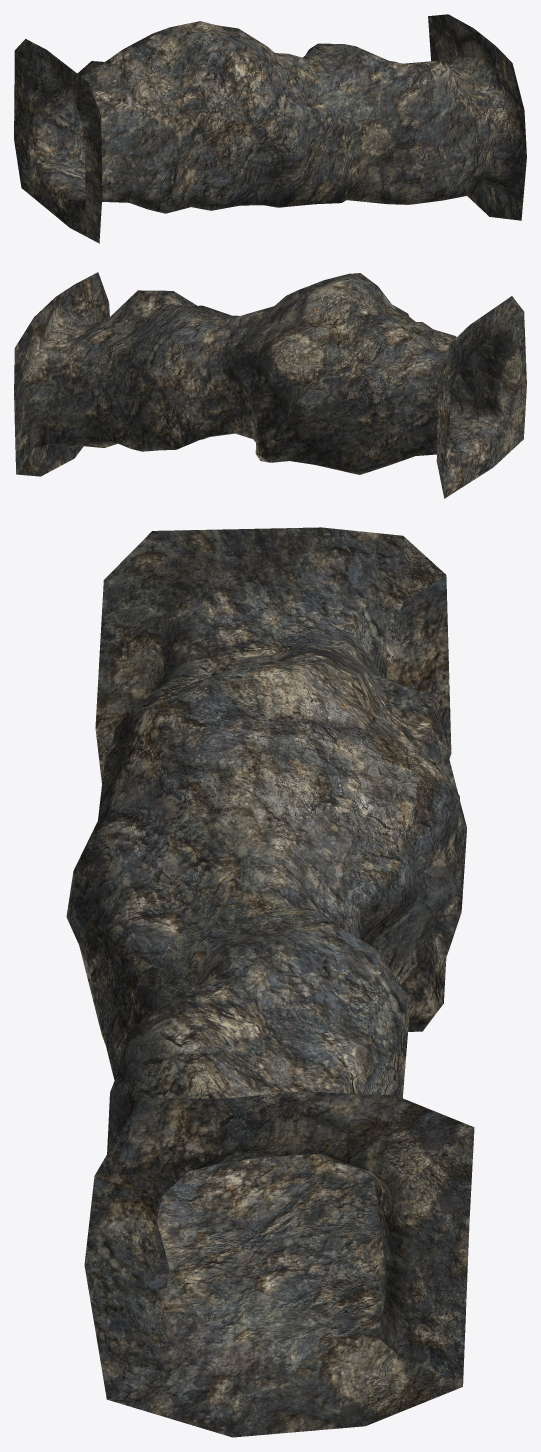
File: Module5_LOD1.fbx
3 renders of one model, top to bottom at view 1: azimuth 30°, elevation 25°; view 2: azimuth 150°, elevation 25°; view 3: azimuth 270°, elevation 25°, orthographic. The views are drawn at different scales.
Visible parts, largest first — view 1: cave_el5_1400_Group31122; view 2: cave_el5_1400_Group31122; view 3: cave_el5_1400_Group31122.
Part boxes in pixels (x1,y1,x2,y2): cave_el5_1400_Group31122: (14,14,526,243); cave_el5_1400_Group31122: (14,272,526,498); cave_el5_1400_Group31122: (66,527,474,1437).
Bounding box in the file's own units: 20.65 × 11.57 × 8.51.
